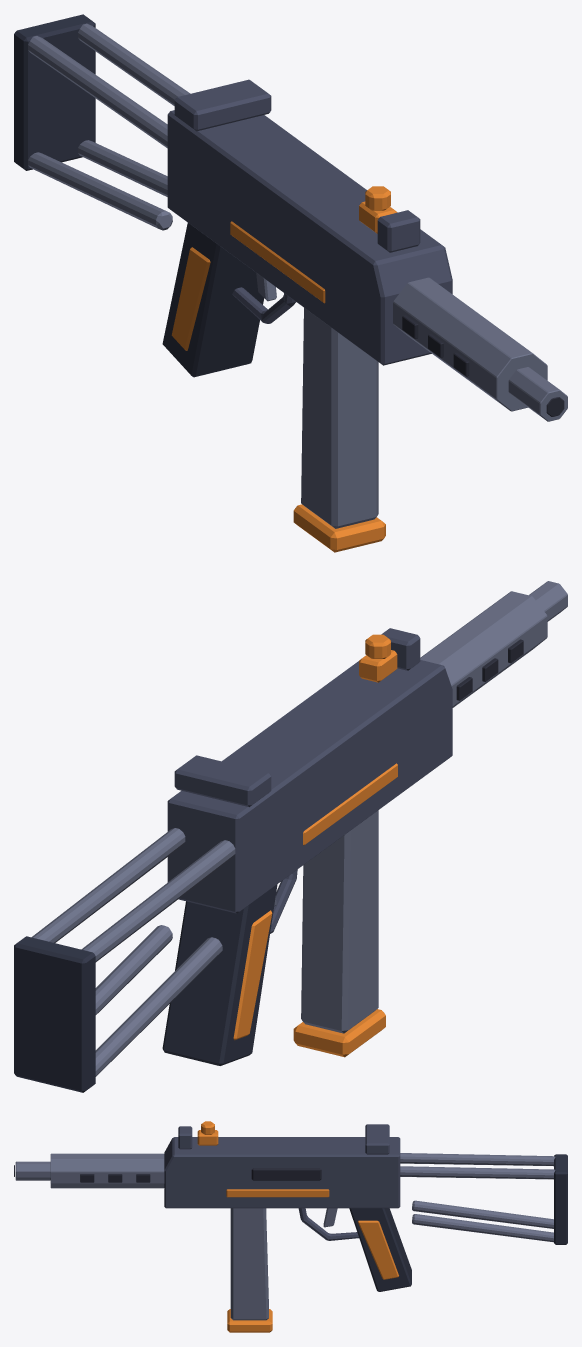
The model's file is myw_smg.glb.
3 views of the same model, one above another, from view 1: azimuth 30°, elevation 25°; view 2: azimuth 150°, elevation 25°; view 3: azimuth 270°, elevation 25° (orthographic). The views are drawn at different scales.
Visible parts, largest first — view 1: Body, Stock, Mag, Barrel, Bolt; view 2: Body, Stock, Mag, Barrel, Bolt; view 3: Body, Stock, Mag, Barrel, Bolt.
Boxes of the visible parts, <box> form: Body: <box>162,79,452,377</box>; Stock: <box>14,14,190,230</box>; Mag: <box>293,308,385,552</box>; Barrel: <box>393,277,567,421</box>; Bolt: <box>359,186,397,233</box>; Body: <box>162,628,452,1065</box>; Stock: <box>14,828,235,1092</box>; Mag: <box>293,810,385,1057</box>; Barrel: <box>420,581,567,707</box>; Bolt: <box>359,634,397,682</box>; Body: <box>164,1124,411,1291</box>; Stock: <box>400,1153,567,1244</box>; Mag: <box>227,1208,272,1332</box>; Barrel: <box>14,1153,164,1188</box>; Bolt: <box>197,1121,218,1145</box>.
Bounding box in the file's own units: 0.281 × 1.28 × 3.17.
